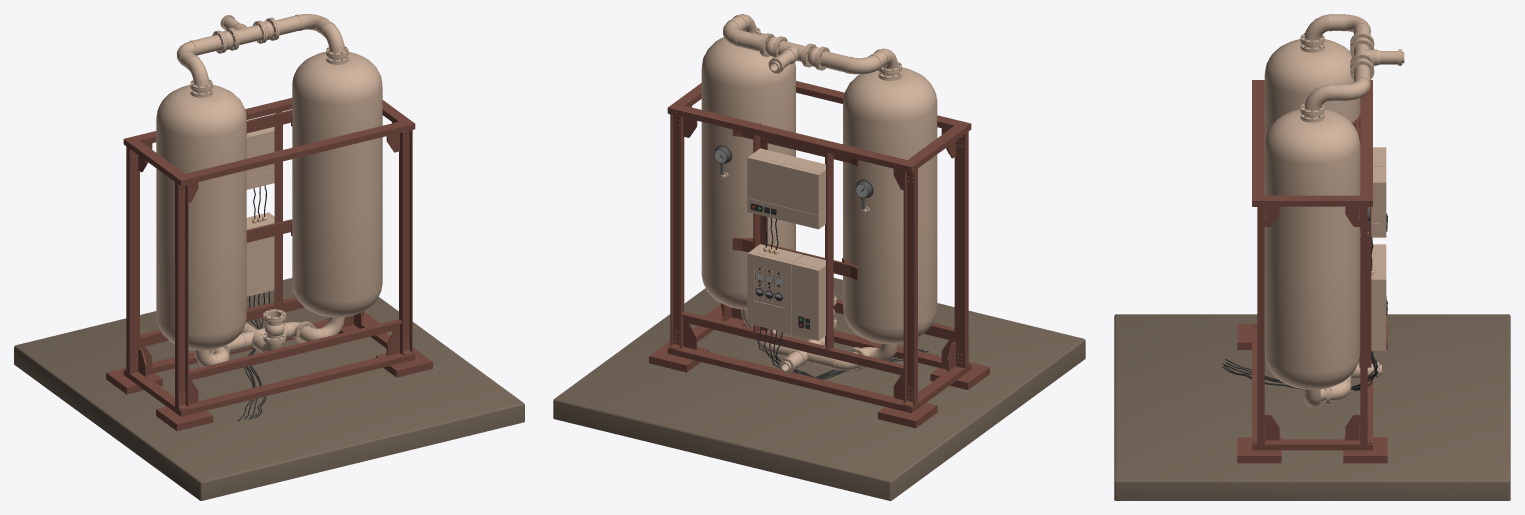
The model's file is xyz_homework_detailing_boiler_compressed.glb.
The picture shows the model from 3 angles, left to right: view 1: azimuth 30°, elevation 25°; view 2: azimuth 150°, elevation 25°; view 3: azimuth 270°, elevation 25°; orthographic projection. The views are drawn at different scales.
Parts seen in each view (by area): view 1: Plane.005, Cylinder, Cube.007, Cube.001, Cylinder.032, Cube.002, Cube, Cylinder.006, Cube.011, Cube.006, Cube.010, Cylinder.009 (+4 smaller); view 2: Plane.005, Cylinder, Cube.007, Cube.001, Cube.011, Cube.010, Cylinder.032, Cube.002, Cube, Cube.006, Cylinder.006, Cube.003 (+5 smaller); view 3: Plane.005, Cylinder, Cube.007, Cylinder.032, Cube.001, Cube, Cube.011, Cube.010, Cube.004, Cylinder.006, Cube.006.
Part boxes in pixels (x1=…): Plane.005: x1=14, y1=278, x2=524, y2=500; Cylinder: x1=156, y1=52, x2=382, y2=350; Cube.007: x1=123, y1=98, x2=415, y2=416; Cube.001: x1=126, y1=130, x2=412, y2=414; Cylinder.032: x1=176, y1=14, x2=348, y2=97; Cube.002: x1=140, y1=297, x2=402, y2=380; Cube: x1=106, y1=312, x2=432, y2=431; Cylinder.006: x1=194, y1=317, x2=344, y2=366; Cube.011: x1=246, y1=212, x2=274, y2=296; Cube.006: x1=274, y1=111, x2=282, y2=305; Cube.010: x1=246, y1=126, x2=274, y2=189; Cylinder.009: x1=241, y1=309, x2=285, y2=352; Plane.005: x1=553, y1=278, x2=1085, y2=500; Cylinder: x1=701, y1=33, x2=937, y2=344; Cube.007: x1=667, y1=81, x2=971, y2=413; Cube.001: x1=670, y1=114, x2=968, y2=410; Cube.011: x1=747, y1=244, x2=825, y2=340; Cube.010: x1=747, y1=148, x2=825, y2=229; Cylinder.032: x1=723, y1=14, x2=901, y2=80; Cube.002: x1=680, y1=299, x2=954, y2=375; Cube: x1=649, y1=304, x2=989, y2=428; Cube.006: x1=753, y1=134, x2=833, y2=351; Cylinder.006: x1=741, y1=309, x2=897, y2=372; Cube.003: x1=683, y1=117, x2=953, y2=400; Plane.005: x1=1114, y1=314, x2=1510, y2=500; Cylinder: x1=1264, y1=39, x2=1360, y2=389; Cube.007: x1=1252, y1=80, x2=1372, y2=450; Cylinder.032: x1=1300, y1=14, x2=1404, y2=122; Cube.001: x1=1257, y1=206, x2=1367, y2=450; Cube: x1=1237, y1=324, x2=1387, y2=463; Cube.011: x1=1371, y1=244, x2=1386, y2=350; Cube.010: x1=1371, y1=147, x2=1386, y2=237; Cube.004: x1=1264, y1=206, x2=1360, y2=440; Cylinder.006: x1=1303, y1=363, x2=1379, y2=407; Cube.006: x1=1359, y1=128, x2=1371, y2=367.
Bounding box in the file's own units: 8.29 × 8.55 × 8.29.
